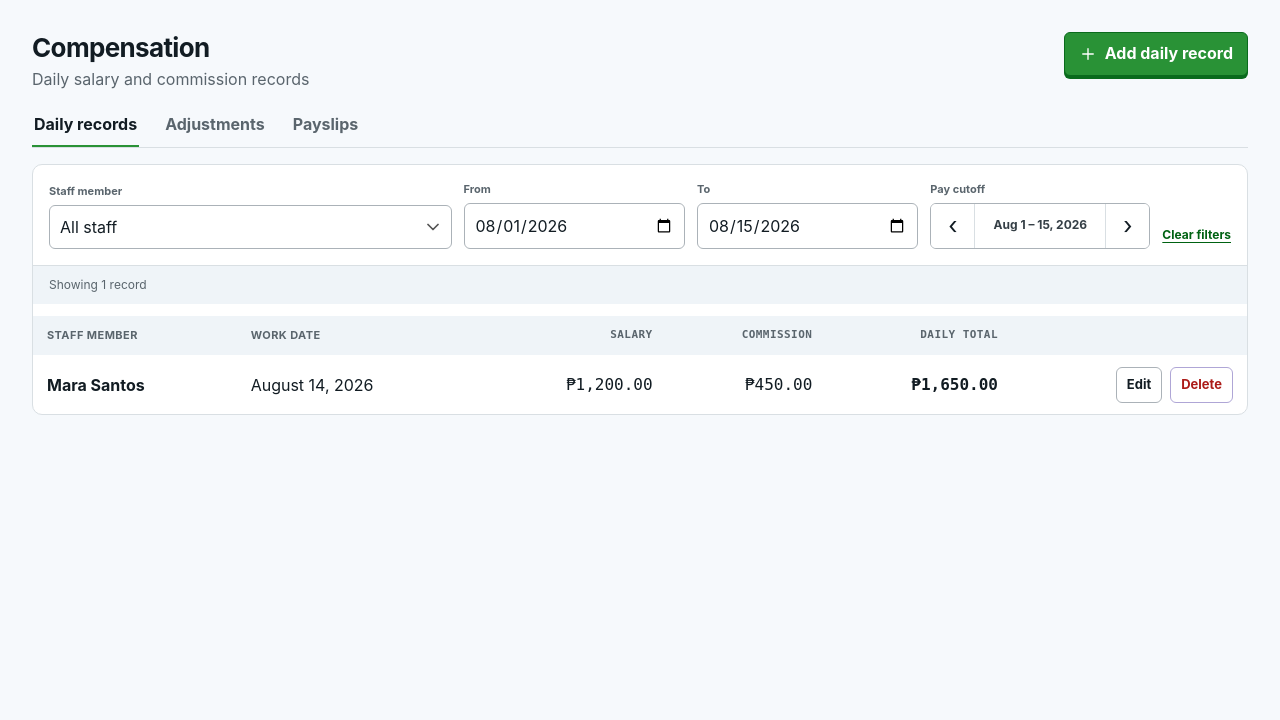
Test: CompensationPage › preserves null and zero base salaries as distinct add-form suggestions
Click the button "Add daily record" at coordinates (1156, 54), box [1064,32,1248,76]
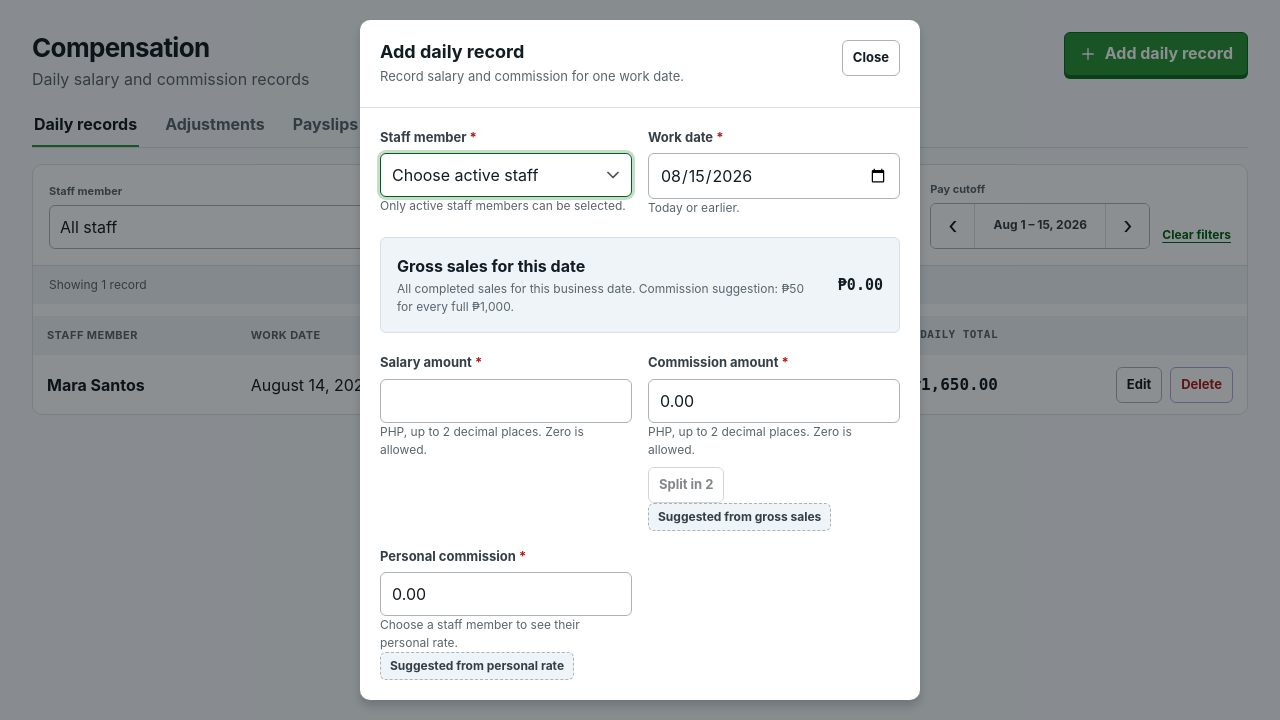
Select "Zero Rate" in the dropdown labelled "Staff member *" at coordinates (506, 175), box [380,153,632,197]
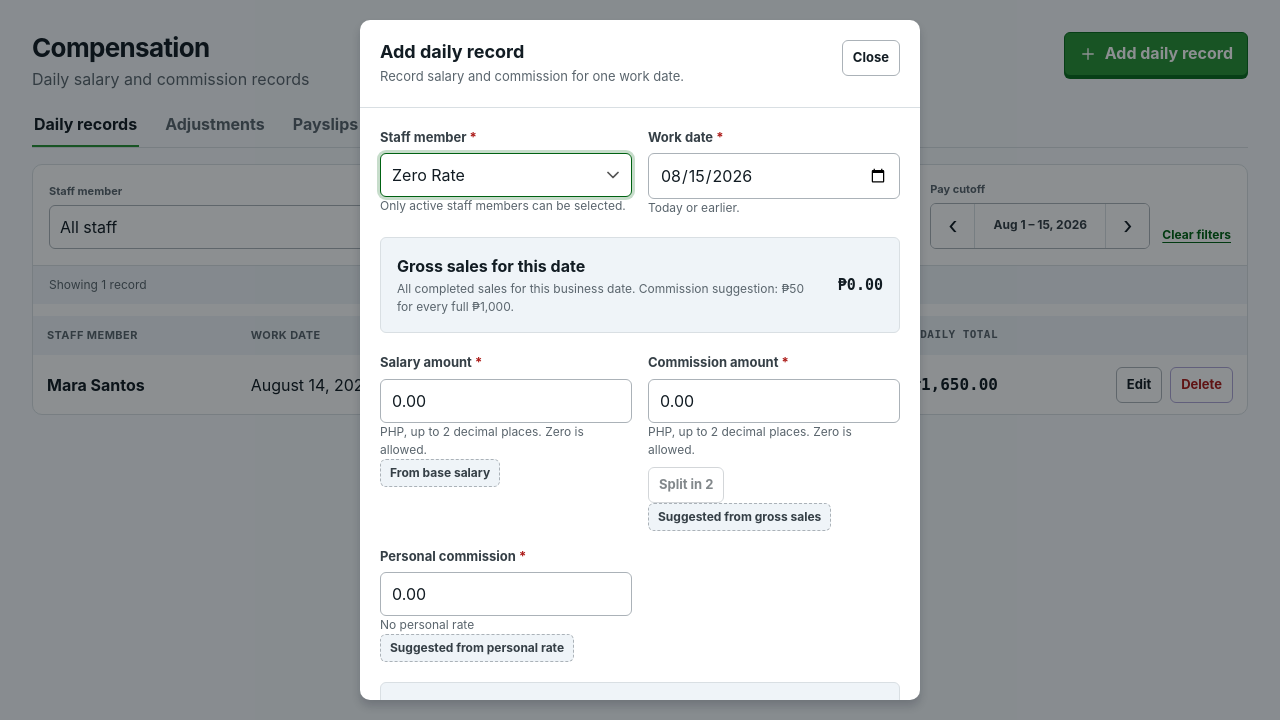
Expected: the field labelled "Salary amount *" holds "0.00", [380,379,632,423]
Expected: the text "From base salary" is shown, [380,459,500,487]
Select "No Rate" in the dropdown labelled "Staff member *" at coordinates (506, 175), box [380,153,632,197]
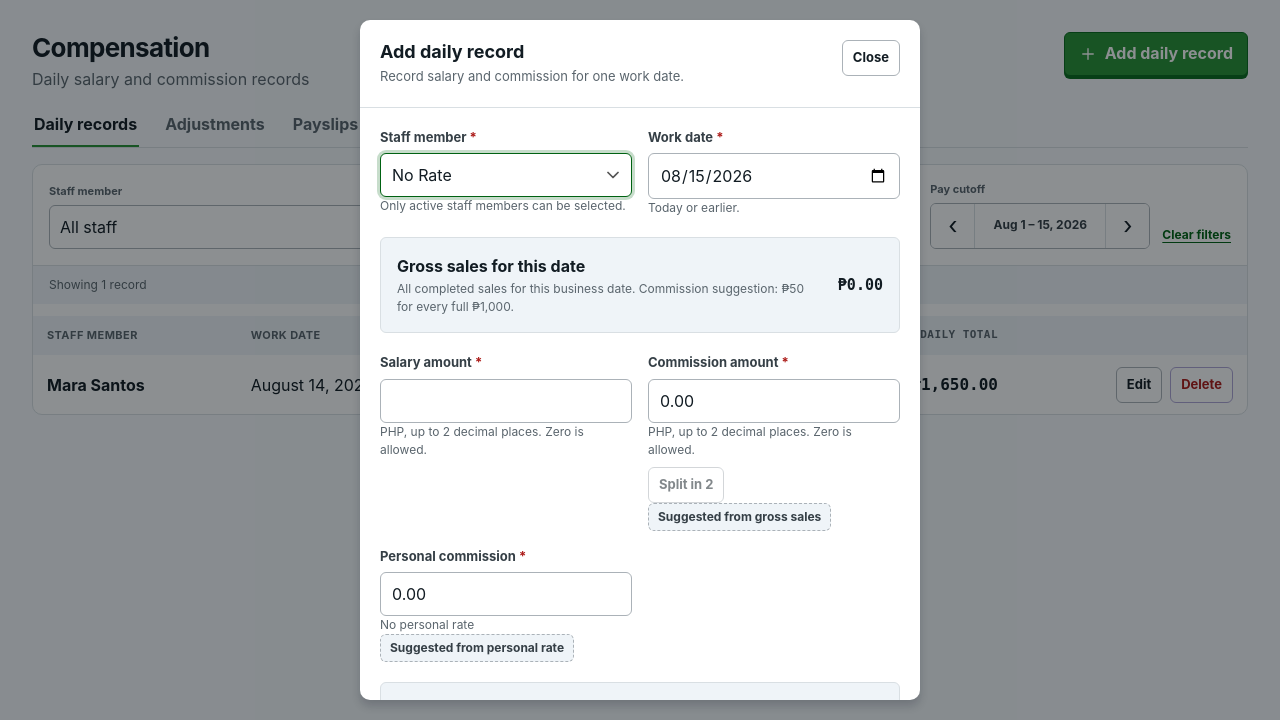
Expected: the field labelled "Salary amount *" is empty, [380,379,632,423]
Expected: the text "From base salary" is gone
